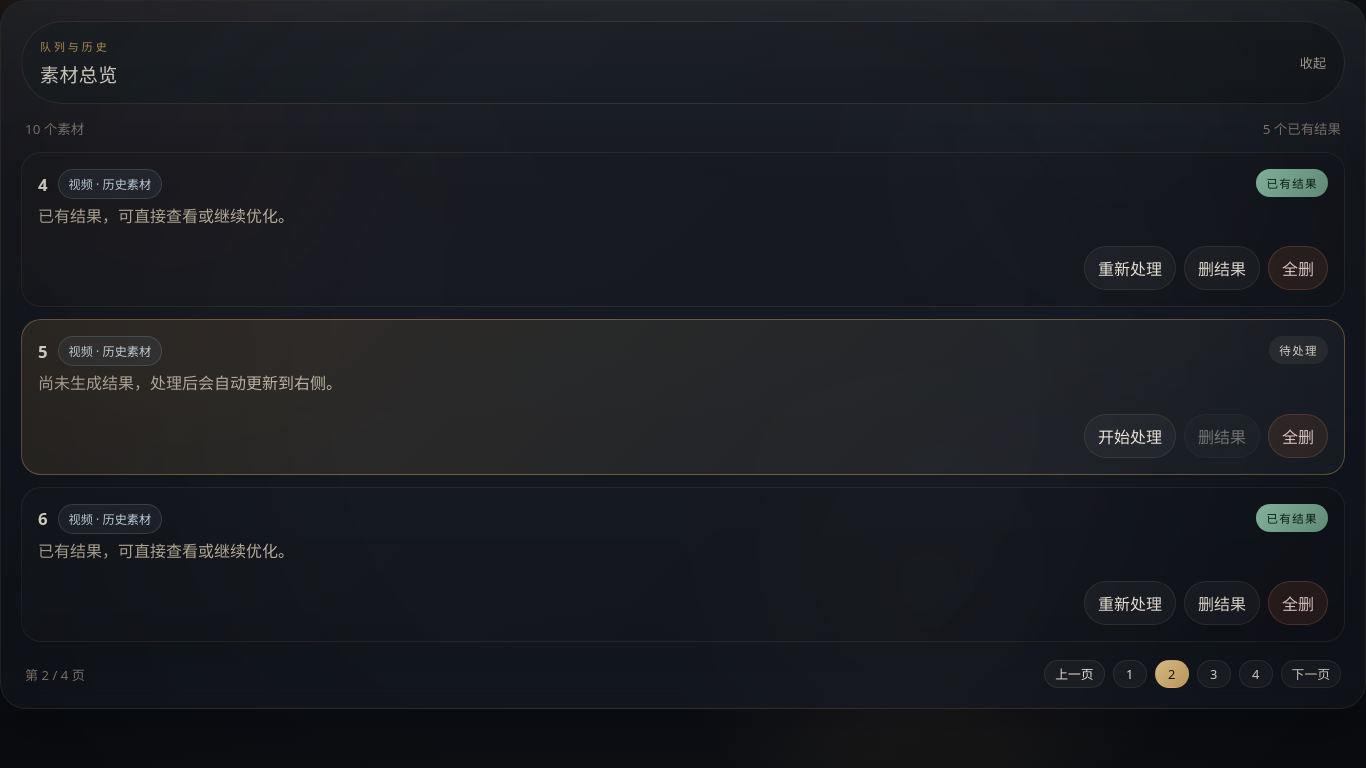
Test: allows manual page navigation even when a later-page item is selected
This screenshot has width=1366, height=768.
Expected: the text "第 2 / 4 页" is shown, [25,665,85,684]
Expected: the text "4" is shown, [38,172,48,196]
Click the button "上一页". click: click(1074, 674)
box: [1044,660,1105,688]
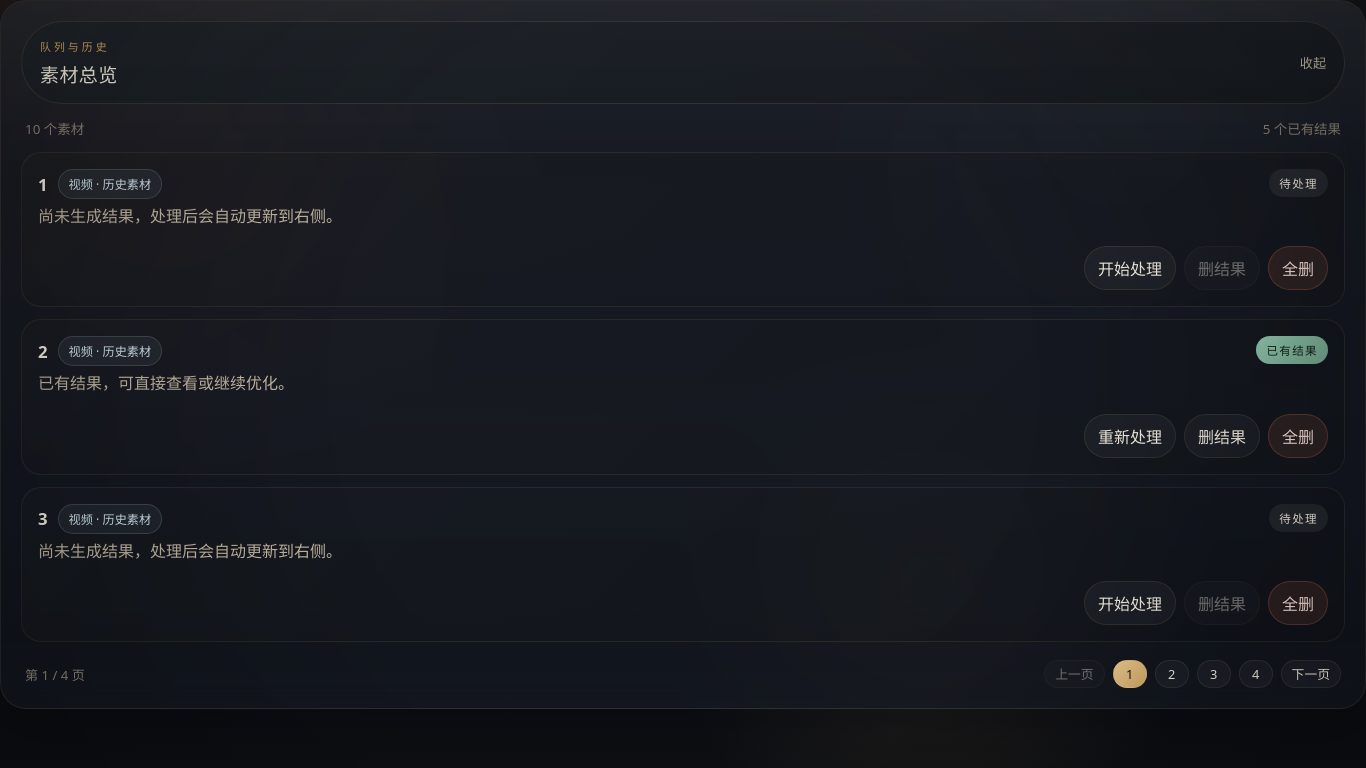
Expected: the text "第 1 / 4 页" is shown, [25,665,85,684]
Expected: the text "1" is shown, [38,172,48,196]
Expected: the text "2" is shown, [38,340,48,363]
